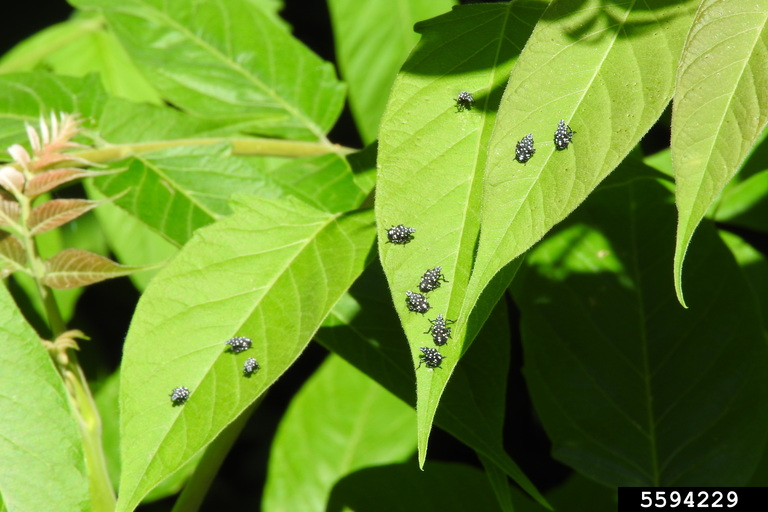instar nymph (1-3): (546, 116, 587, 155), (231, 348, 268, 390), (374, 219, 424, 247), (502, 128, 536, 167), (407, 339, 450, 364), (420, 315, 468, 337), (163, 377, 193, 403), (400, 283, 428, 310), (420, 267, 449, 293), (223, 329, 254, 345), (455, 95, 470, 109)
